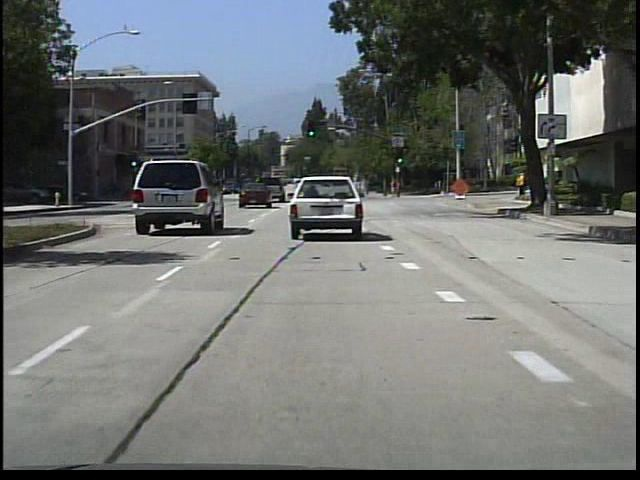person: (389, 172, 403, 201)
